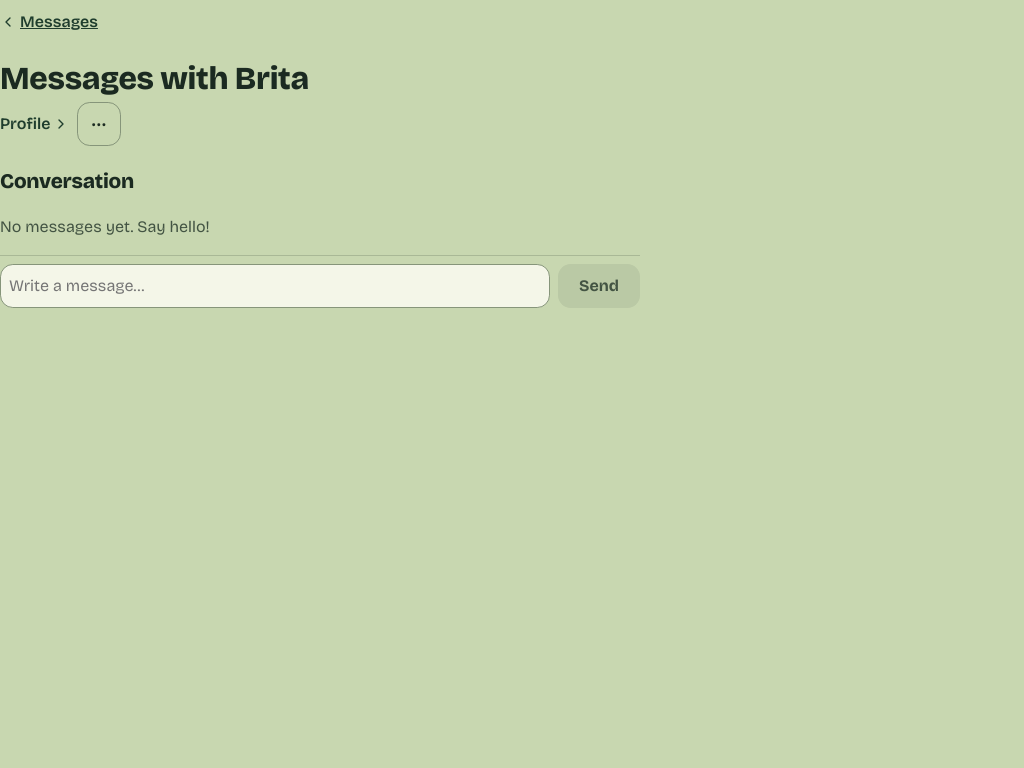
Test: ConversationPage › keeps "Block" behind "…" next to Profile, with the question first
Expected: the button "Block" is not shown
Click the button named "More for Brita" at [99, 124], box [77, 102, 121, 146]
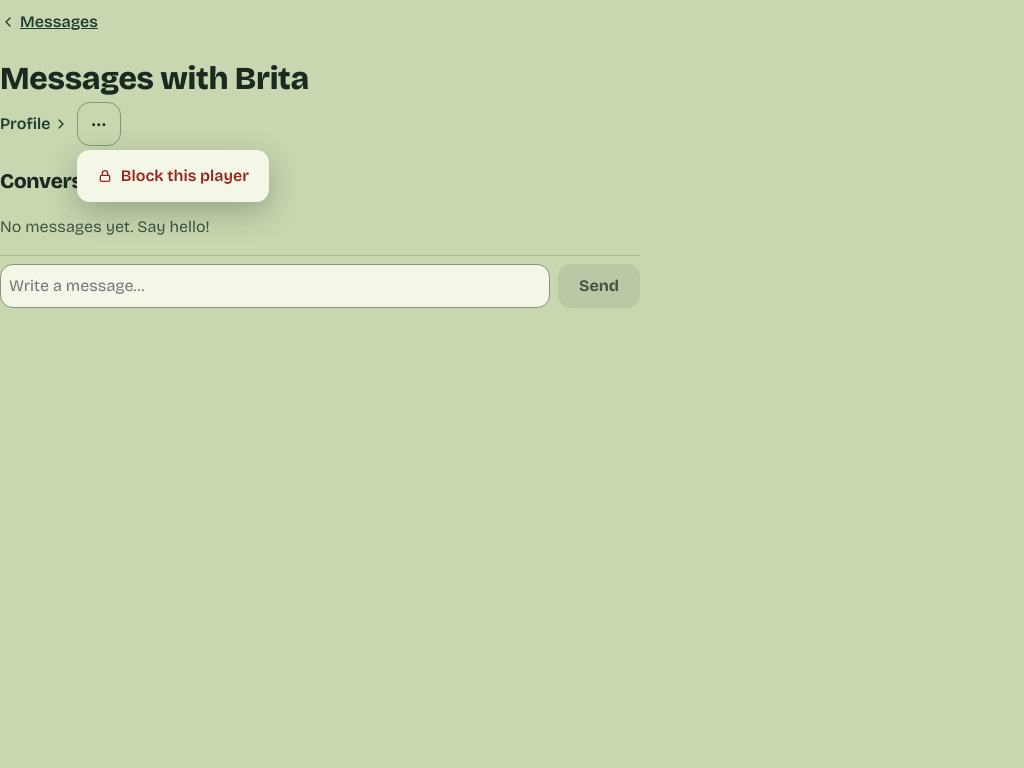
Click the button "Block this player" at [173, 176], box [81, 154, 265, 198]
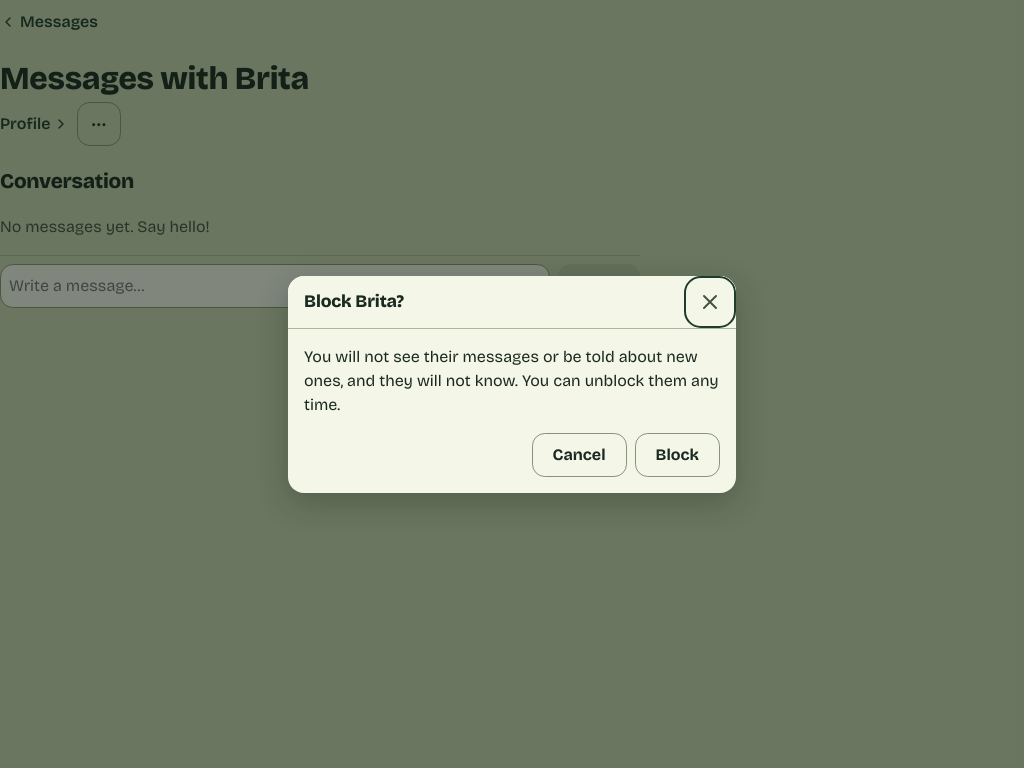
Result: the dialog "Block Brita?" is shown at [288, 276, 736, 492]
